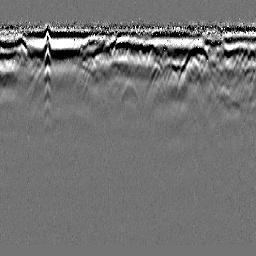cavity: (120, 77, 140, 105)
